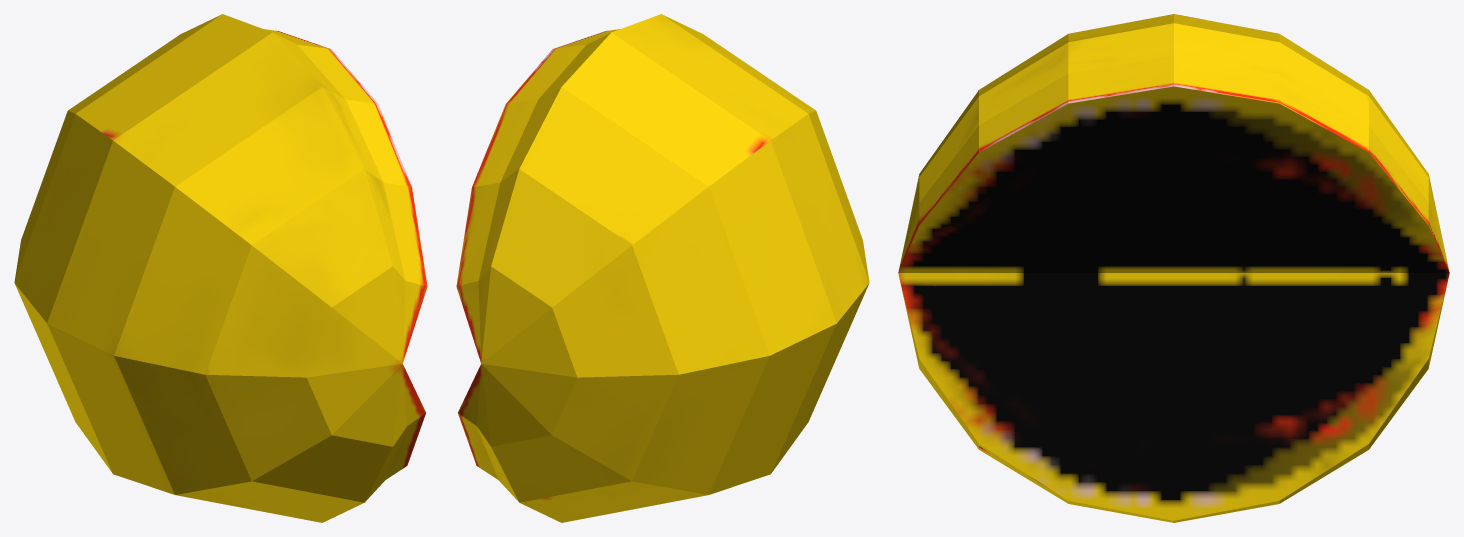
The model's file is pacman5.obj.
The picture shows the model from 3 angles, left to right: view 1: azimuth 30°, elevation 25°; view 2: azimuth 150°, elevation 25°; view 3: azimuth 270°, elevation 25°; orthographic projection. The views are drawn at different scales.
Visible parts, largest first — view 1: Sphere; view 2: Sphere; view 3: Sphere.
Boxes of the visible parts, x1,y1,x2,y2 form: Sphere: (14,14,427,522); Sphere: (456,14,869,522); Sphere: (898,14,1449,522).
Size of the model in its own units: 1.26 by 2 by 2.
